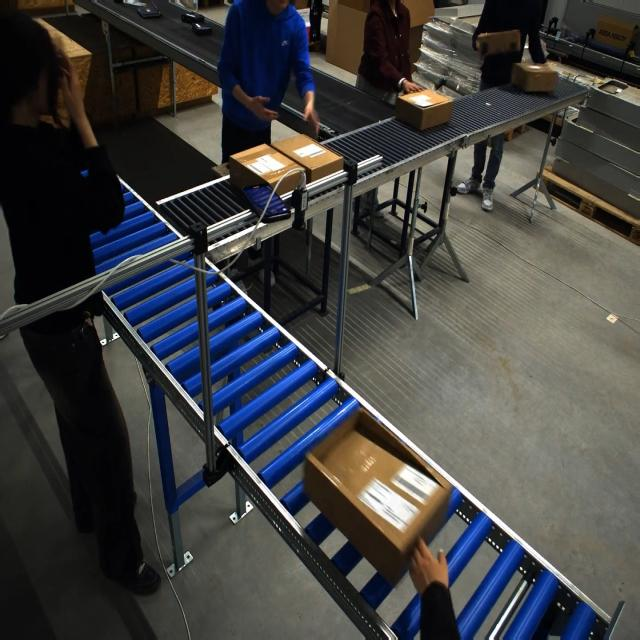box: (306, 417, 440, 579), (229, 143, 301, 196), (272, 134, 339, 187), (396, 88, 453, 131), (510, 62, 558, 94), (476, 29, 520, 57)
product: (136, 3, 161, 18), (181, 12, 204, 24), (191, 23, 212, 36)
